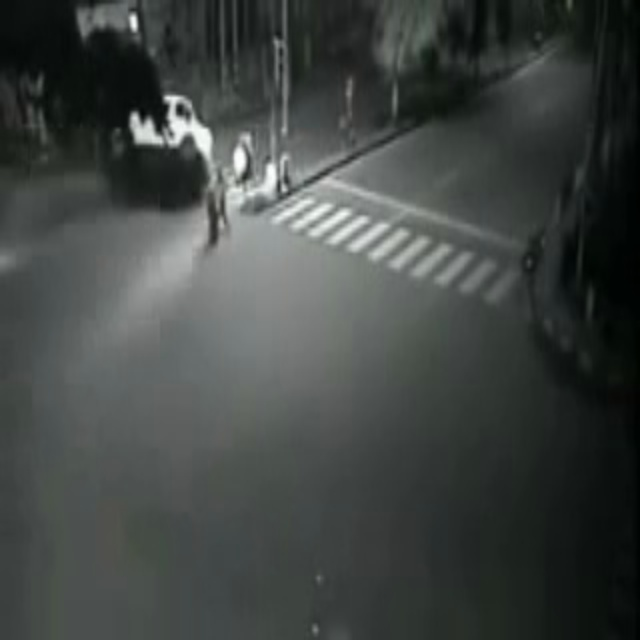acc: (95, 85, 250, 251)
